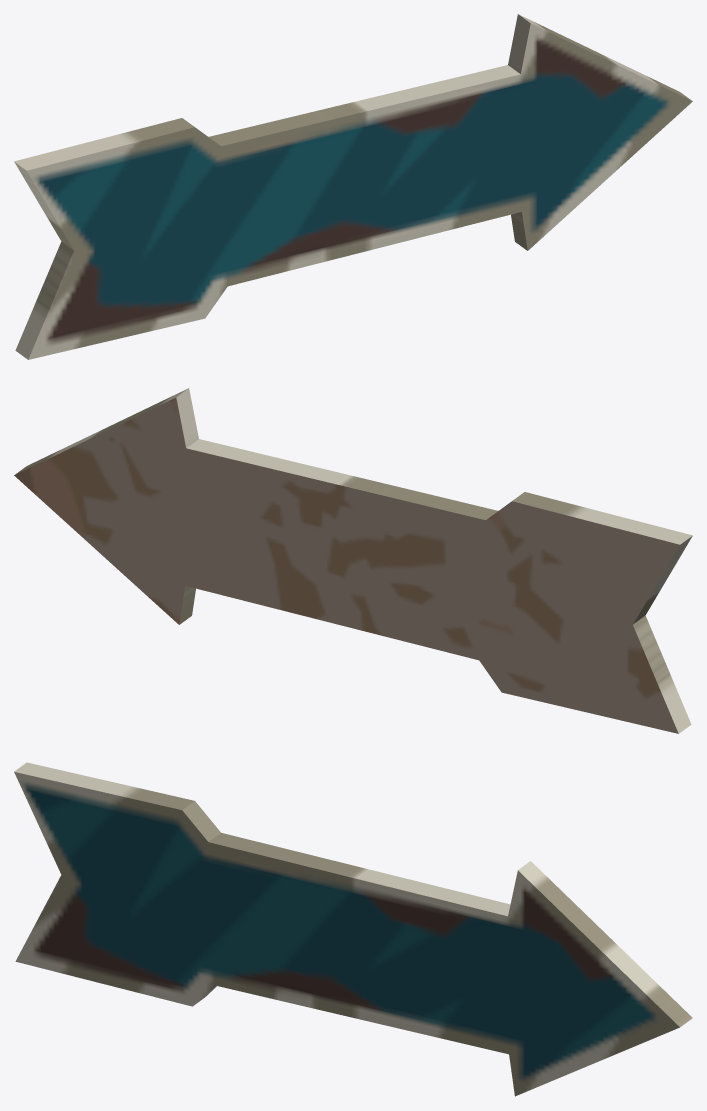
The model's file is SM_Prop_Sign_Custom_06.fbx.
The picture shows the model from 3 angles, top to bottom: view 1: azimuth 30°, elevation 25°; view 2: azimuth 150°, elevation 25°; view 3: azimuth 330°, elevation 25°; orthographic projection.
Visible parts, largest first — view 1: SM_Prop_Sign_Custom_06; view 2: SM_Prop_Sign_Custom_06; view 3: SM_Prop_Sign_Custom_06.
Part boxes in pixels (box(x1,y1,x2,y2)): SM_Prop_Sign_Custom_06: box(14, 14, 692, 359); SM_Prop_Sign_Custom_06: box(14, 388, 692, 733); SM_Prop_Sign_Custom_06: box(14, 762, 692, 1096).
Size of the model in its own units: 189 by 61.56 by 6.29.
